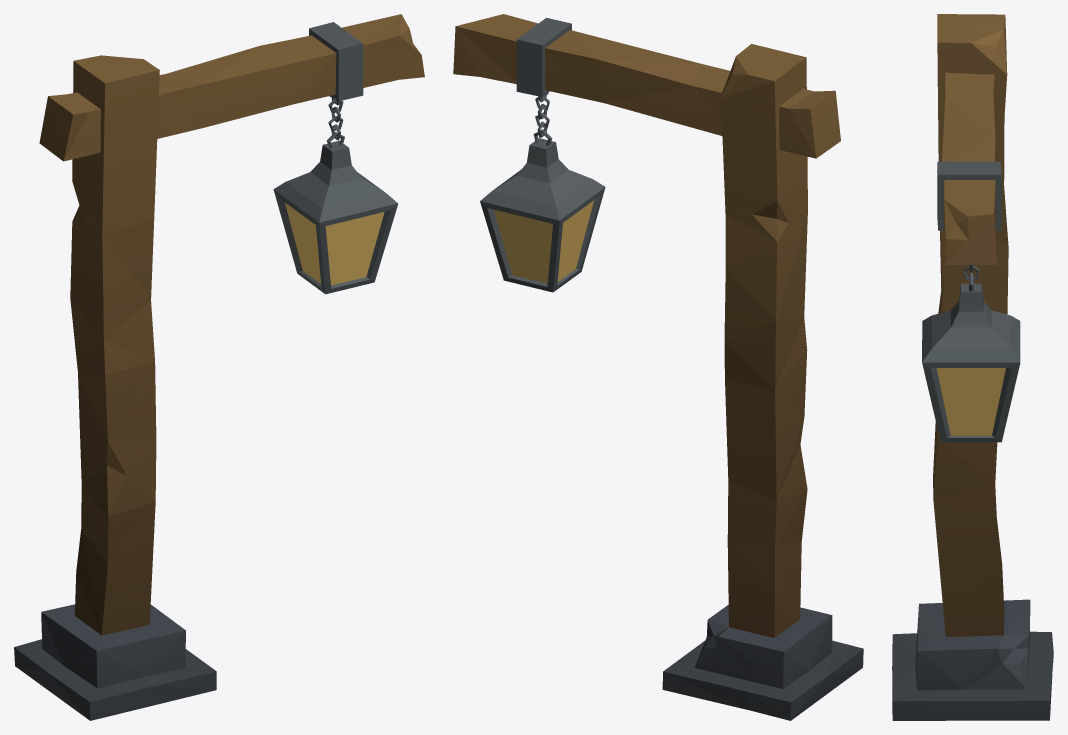
File: Lantern_02.fbx
3 renders of one model, left to right at view 1: azimuth 30°, elevation 25°; view 2: azimuth 150°, elevation 25°; view 3: azimuth 270°, elevation 25°, orthographic. The views are drawn at different scales.
Visible parts, largest first — view 1: Lantern_02; view 2: Lantern_02; view 3: Lantern_02.
Part boxes in pixels (x1,y1,x2,y2): Lantern_02: [14, 14, 424, 720]; Lantern_02: [453, 14, 863, 720]; Lantern_02: [892, 14, 1053, 720].
Size of the model in its own units: 1.51 by 2.44 by 0.5426.
